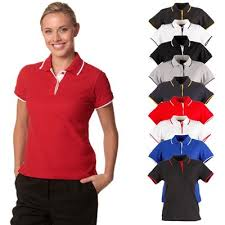S_polo shirt: (10, 55, 123, 187), (150, 158, 213, 220)
